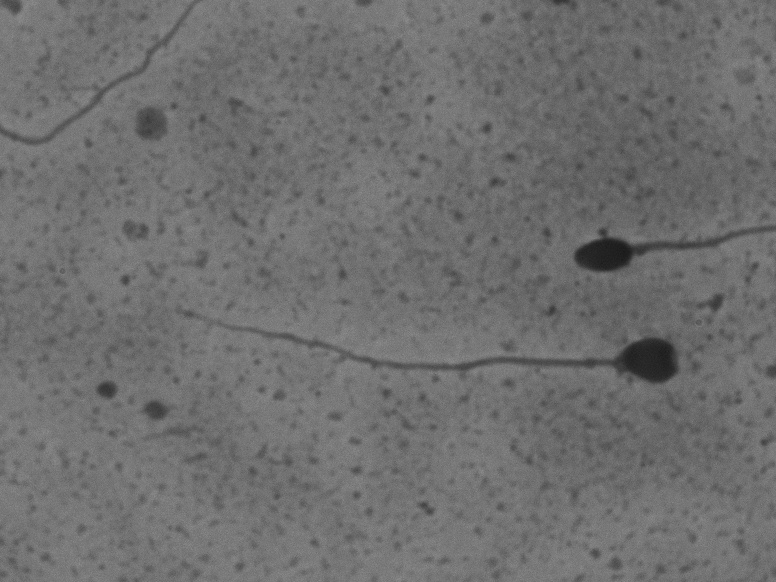Abnormal: (175, 289, 702, 459)
